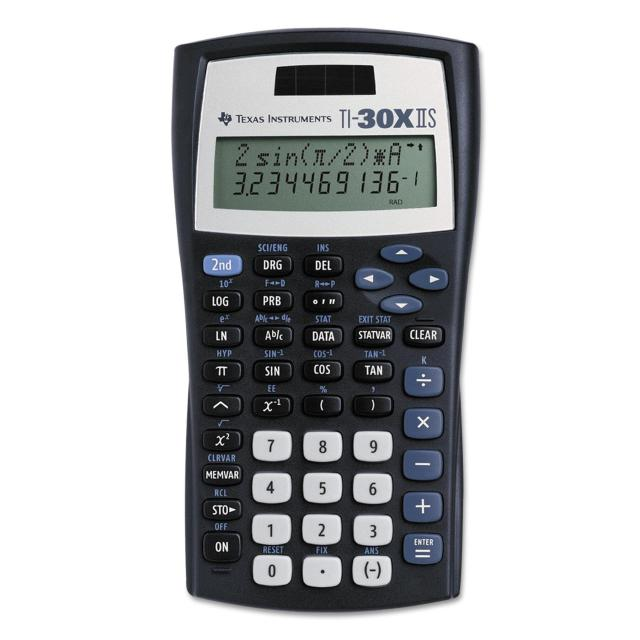Calculator: (98, 0, 570, 638)
